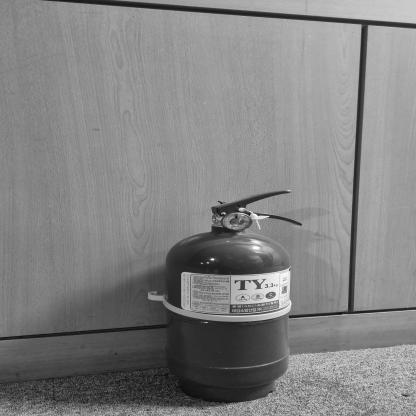FE: (163, 188, 304, 402)
